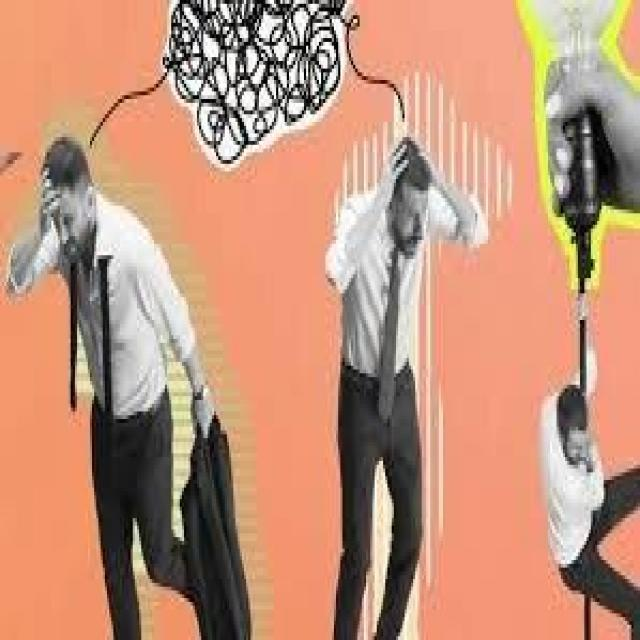person: (7, 110, 246, 621), (314, 111, 482, 636), (518, 301, 638, 613)
